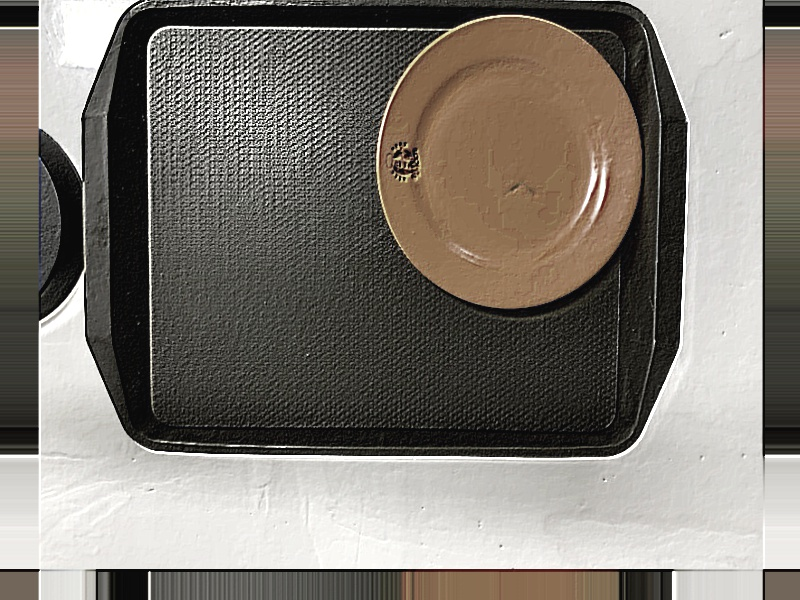dish10: (370, 14, 647, 320)
